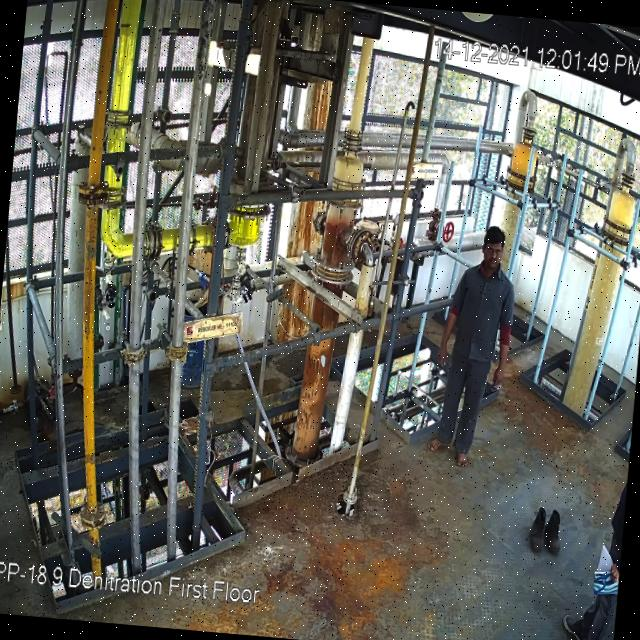boots: (526, 504, 552, 555), (544, 509, 566, 553)
no-boots: (424, 436, 449, 452), (451, 450, 469, 471)
